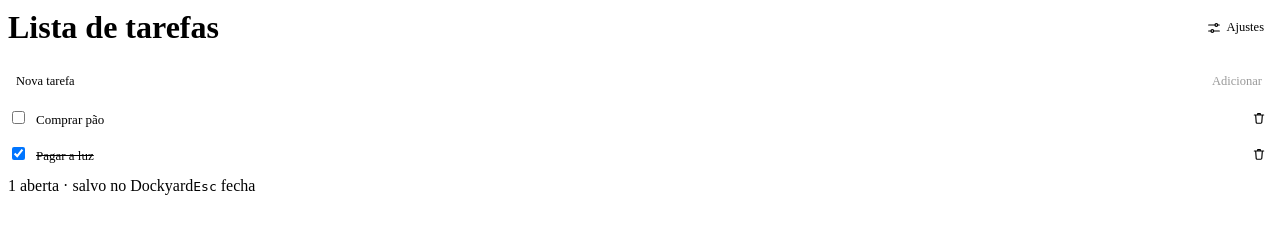
Test case: TodoPanel › goes back to the saved list when Rust refuses
The width and height of the screenshot is (1280, 228).
Click the button named "Remover a tarefa Pagar a luz": (1259, 154) x1=1246 y1=141 x2=1272 y2=167
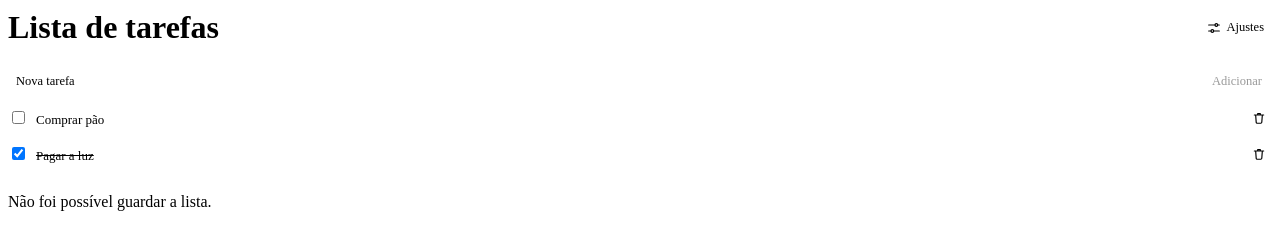
expect the text "Pagar a luz" is shown: met, box x1=36 y1=148 x2=94 y2=163
expect the text "Não foi possível guardar a lista." is shown: met, box x1=8 y1=193 x2=212 y2=210
